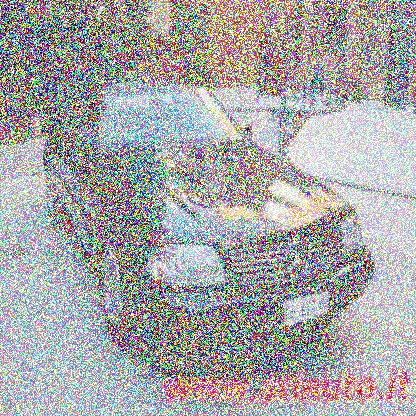Vehicle: (40, 69, 379, 386)
